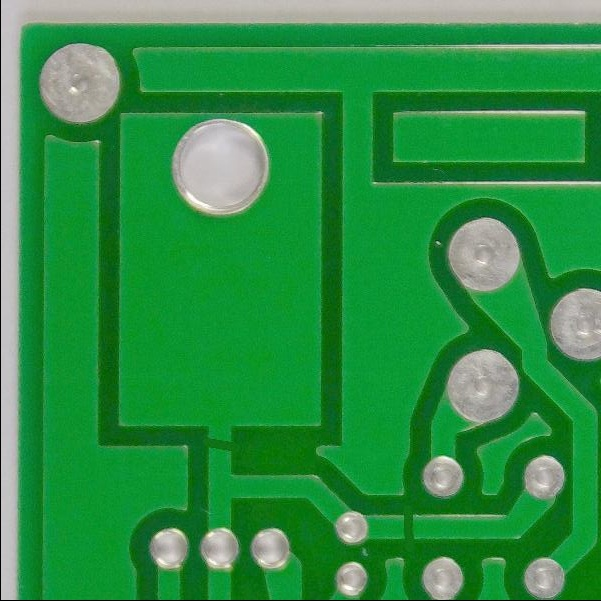open_circuit: (197, 427, 238, 461), (393, 504, 421, 552)
